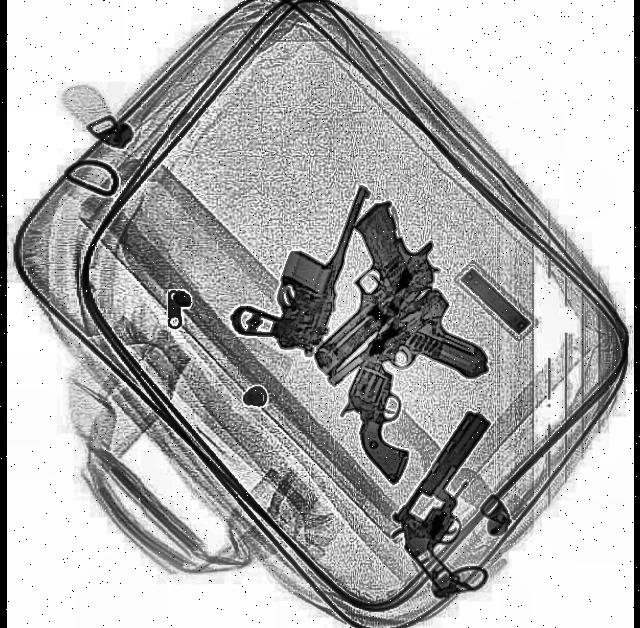Gun: (322, 251, 480, 487), (266, 190, 450, 382), (224, 154, 374, 370), (319, 280, 493, 463), (378, 407, 540, 601)
